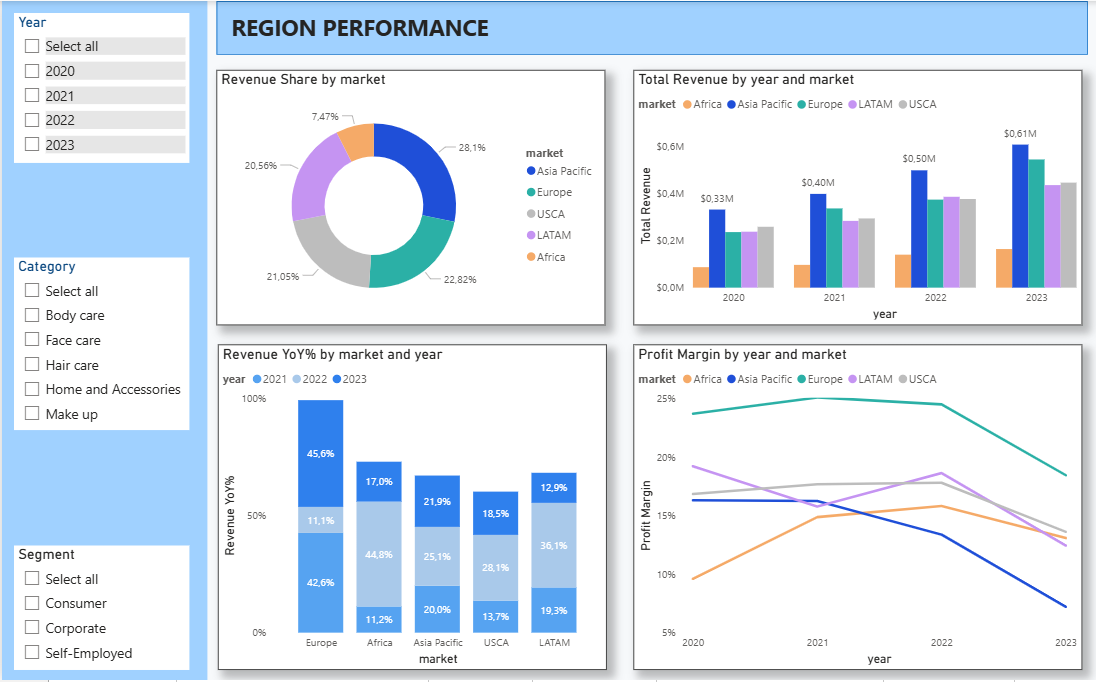

This screenshot's page, from the dashboard's own definition file:
{"tool":"powerbi","page":{"name":"Region Performance","canvas":[1300,800],"ordinal":4},"visuals":[{"type":"clusteredColumnChart","fields":{"Category":["date.year"],"Series":["dim_region.market"],"Y":["sales.Total Revenue"]},"box":[744.1,81.3,528.4,300.4],"z":0},{"type":"columnChart","fields":{"Category":["dim_region.market"],"Y":["sales.Revenue YoY%"],"Series":["date.year"]},"box":[254.5,404.7,457.7,383.5],"z":1000},{"type":"lineChart","fields":{"Category":["date.year"],"Y":["sales.Profit Margin"],"Series":["dim_region.market"]},"box":[744.1,404.7,528.4,383.5],"z":2000},{"type":"donutChart","title":"Revenue Share by market","fields":{"Category":["dim_region.market"],"Y":["sales.Revenue Share by Market"]},"box":[252.7,81.3,457.7,300.4],"z":3000},{"type":"shape","box":[0,0,242,800.9],"z":4000},{"type":"slicer","title":"Year","fields":{"Values":["date.year"]},"box":[14.7,14.1,206.8,176.7],"z":5000},{"type":"slicer","title":"Category","fields":{"Values":["dim_product.category"]},"box":[14.1,302.2,206.8,203.2],"z":6000},{"type":"slicer","title":"Segment","fields":{"Values":["sales.segment"]},"box":[14.7,641.5,206.8,146.7],"z":7000},{"type":"shape","box":[253.2,0,1026.8,63.6],"z":8000},{"type":"textbox","box":[265.6,7.9,1007.5,74.8],"z":9000}]}

Visuals, with their boxes in screenshot pixels (x1, y1, x2, y2), scaled from the page's 1300x800 canvas onto the 1096x682 screenshot:
clusteredColumnChart - date.year x dim_region.market: detection(627, 69, 1073, 325)
columnChart - dim_region.market x sales.Revenue YoY%: detection(215, 345, 600, 672)
lineChart - date.year x sales.Profit Margin: detection(627, 345, 1073, 672)
"Revenue Share by market" donutChart: detection(213, 69, 599, 325)
shape: detection(0, 0, 204, 681)
"Year" slicer: detection(12, 12, 187, 163)
"Category" slicer: detection(12, 258, 186, 431)
"Segment" slicer: detection(12, 547, 187, 672)
shape: detection(213, 0, 1079, 54)
textbox: detection(224, 7, 1073, 71)
